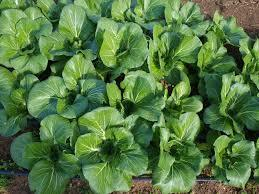Healthy-Pechay: (10, 12, 259, 167), (105, 0, 116, 0)
